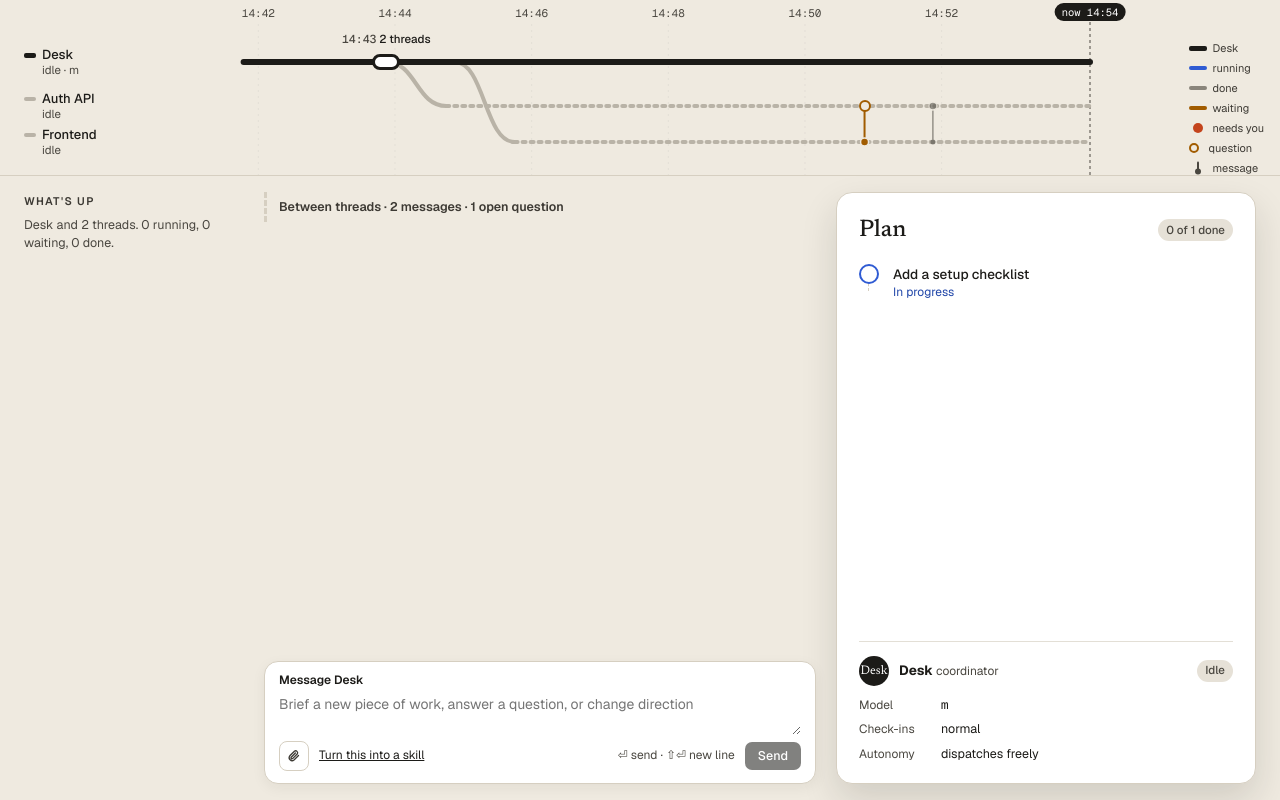
Test: messages in the conversation › lists a digest pair by pair when expanded, each line opening the pair's sheet
The width and height of the screenshot is (1280, 800).
Expected: the button "⇄" is not shown
Click the button "Between threads · 2 messages · 1 open question". click: (421, 207)
box: [279, 198, 564, 216]
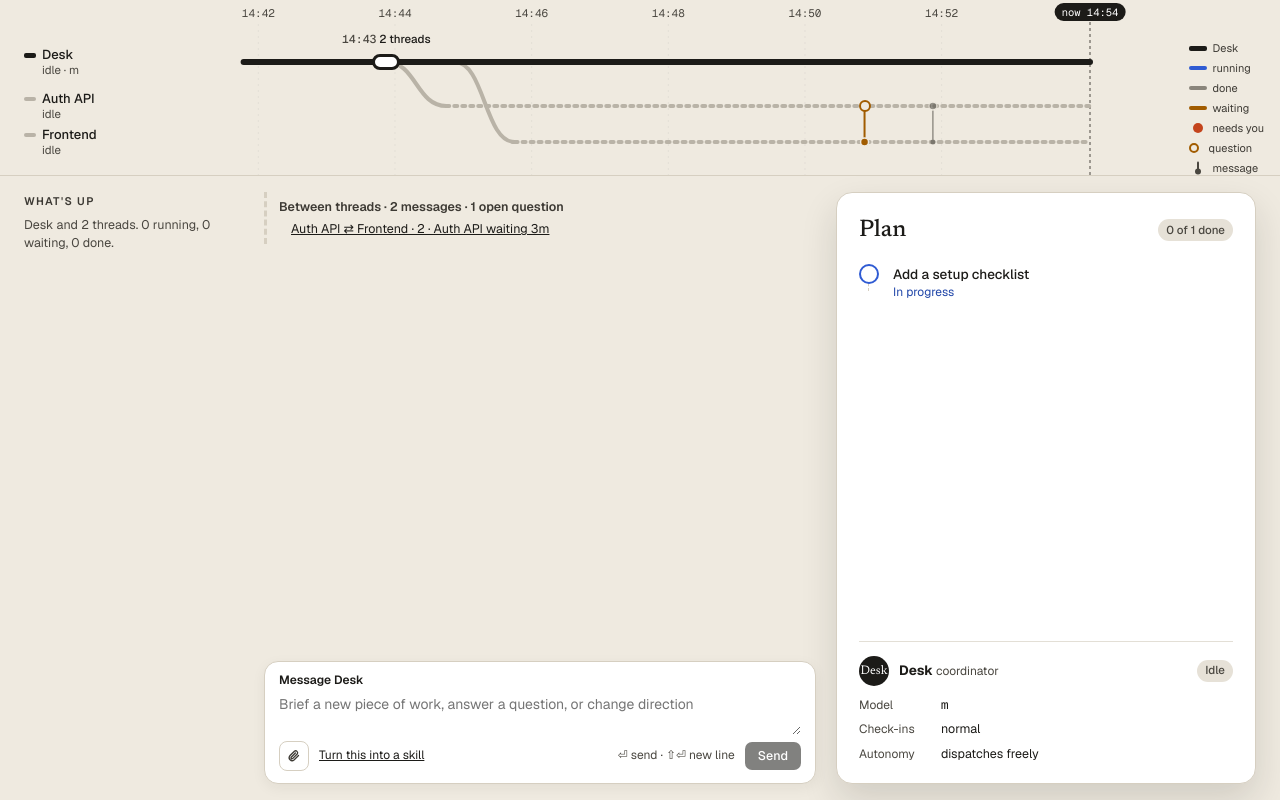
Click the button "Auth API ⇄ Frontend · 2 · Auth API waiting 3m". click: (420, 229)
box: [291, 220, 550, 238]
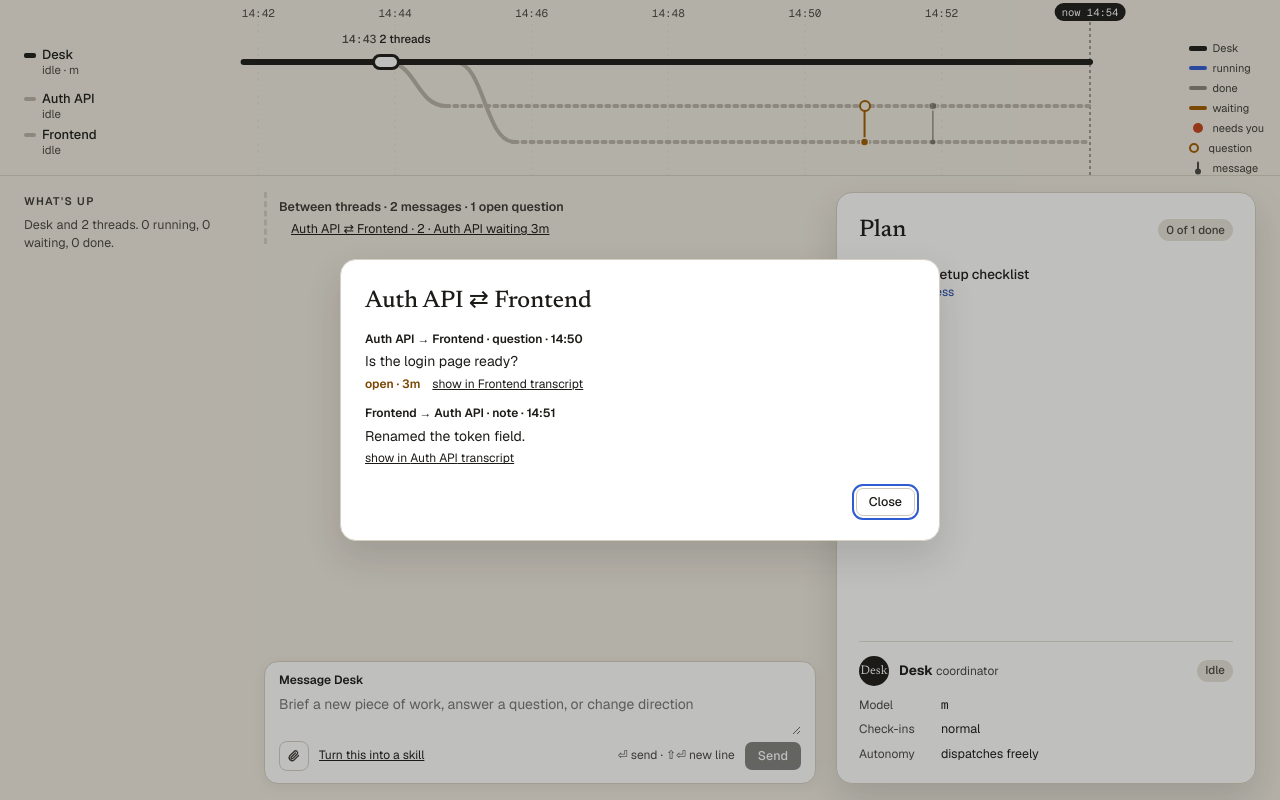
Now the dialog "Auth API ⇄ Frontend" shows "open · 3m", box [340, 259, 940, 541]
